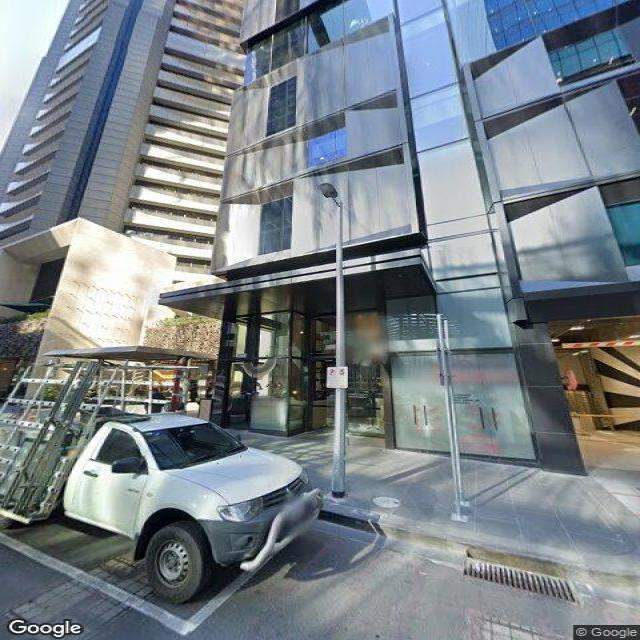mid mount suitable pole: (317, 181, 346, 500)
steel-pole: (331, 200, 345, 498)
streetlight: (317, 181, 341, 207)
